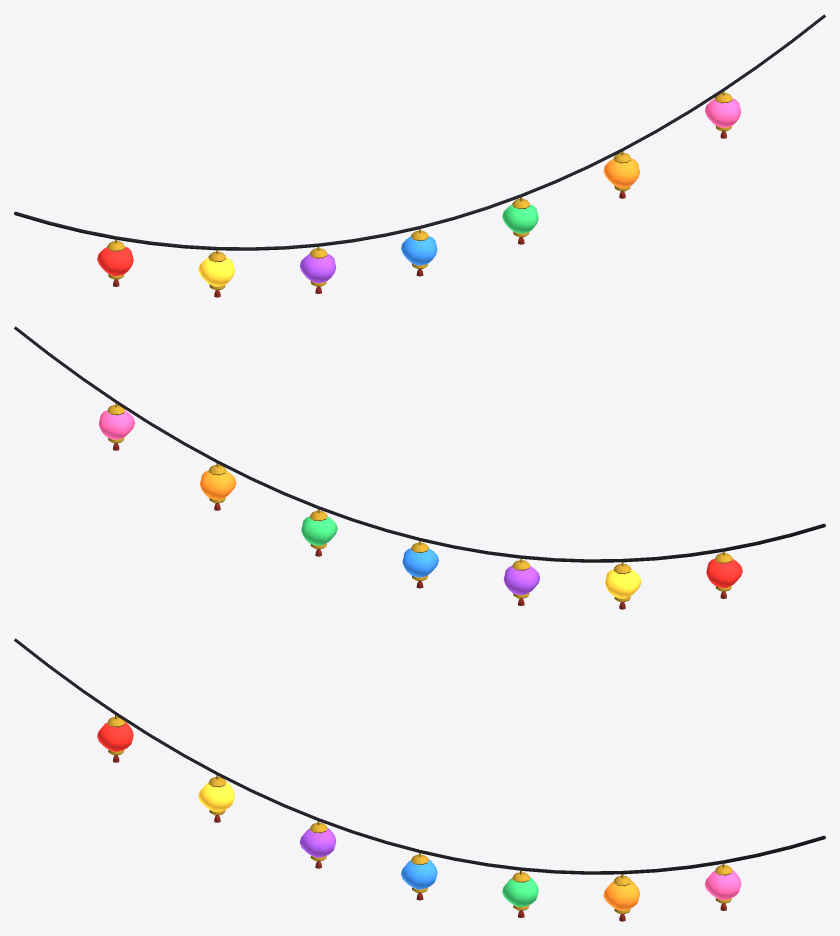
The model's file is silk_lantern_string.glb.
3 views of the same model, one above another, from view 1: azimuth 30°, elevation 25°; view 2: azimuth 150°, elevation 25°; view 3: azimuth 330°, elevation 25° (orthographic).
Visible parts, largest first — view 1: silk_lantern_string; view 2: silk_lantern_string; view 3: silk_lantern_string.
Part boxes in pixels (left/top/right/bottom): silk_lantern_string: left=14, top=14, right=825, bottom=297; silk_lantern_string: left=14, top=326, right=825, bottom=609; silk_lantern_string: left=14, top=638, right=825, bottom=921.
Size of the model in its own units: 6.01 by 1.15 by 0.234.
